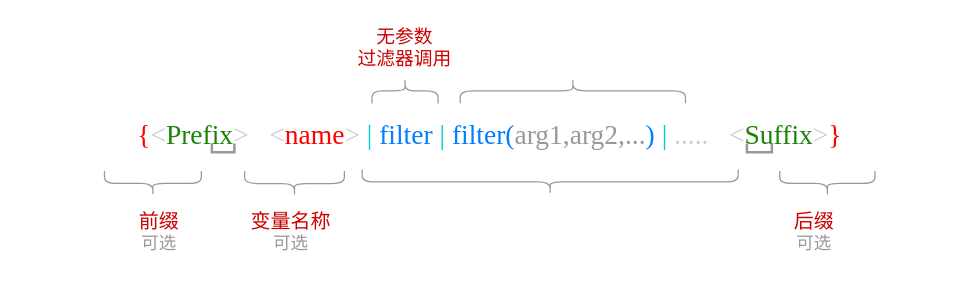
This 979x285 diagram has some shape labels left out. The box of each missing label's shape, as (x1, y1, x2, y2) in pixels:
带参数 过滤器调用: (459, 77, 686, 103)
过滤器链式调用 可选,0-N: (361, 168, 738, 194)
